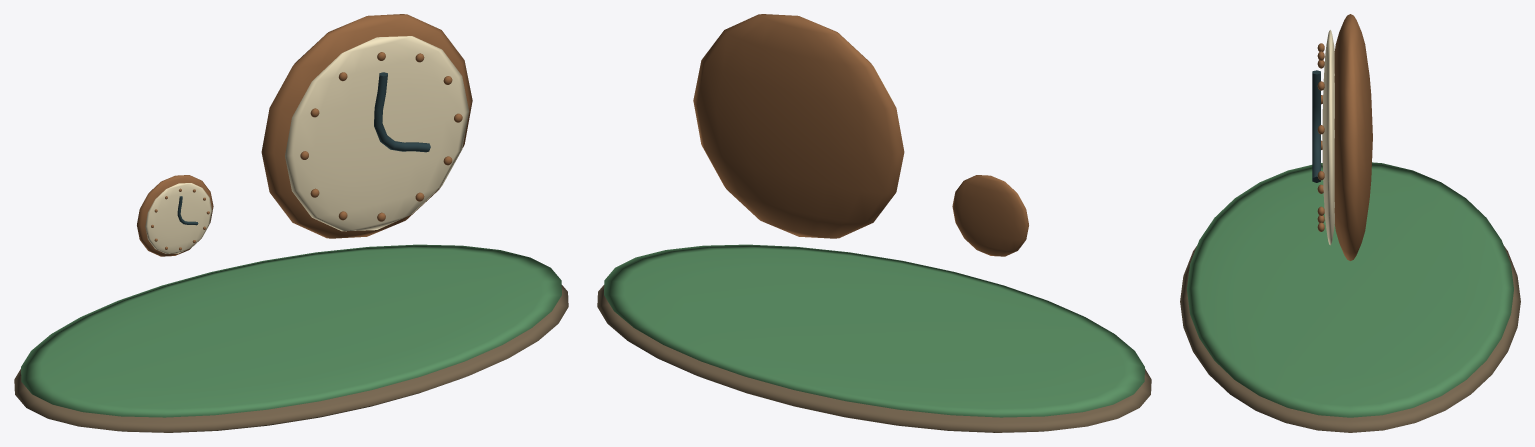
The model's file is small-hour.glb.
3 renders of one model, left to right at view 1: azimuth 30°, elevation 25°; view 2: azimuth 150°, elevation 25°; view 3: azimuth 270°, elevation 25°, orthographic.
Visible parts, largest first — view 1: small-hour_surface_01, small-hour_surface_03, small-hour_surface_02, small-hour_surface_00, small-hour_surface_04; view 2: small-hour_surface_01, small-hour_surface_02, small-hour_surface_00; view 3: small-hour_surface_01, small-hour_surface_02, small-hour_surface_00, small-hour_surface_03, small-hour_surface_04.
Boxes of the visible parts, x1=… form: small-hour_surface_01: x1=21, y1=244, x2=561, y2=417; small-hour_surface_03: x1=145, y1=36, x2=469, y2=253; small-hour_surface_02: x1=137, y1=14, x2=472, y2=256; small-hour_surface_00: x1=14, y1=285, x2=568, y2=432; small-hour_surface_04: x1=177, y1=72, x2=430, y2=225; small-hour_surface_01: x1=604, y1=244, x2=1144, y2=417; small-hour_surface_02: x1=693, y1=14, x2=1028, y2=256; small-hour_surface_00: x1=597, y1=285, x2=1151, y2=432; small-hour_surface_01: x1=1187, y1=162, x2=1513, y2=417; small-hour_surface_02: x1=1317, y1=14, x2=1372, y2=260; small-hour_surface_00: x1=1180, y1=246, x2=1520, y2=432; small-hour_surface_03: x1=1322, y1=30, x2=1334, y2=245; small-hour_surface_04: x1=1312, y1=70, x2=1320, y2=182.
Size of the model in its own units: 4.56 by 2.67 by 2.5.
